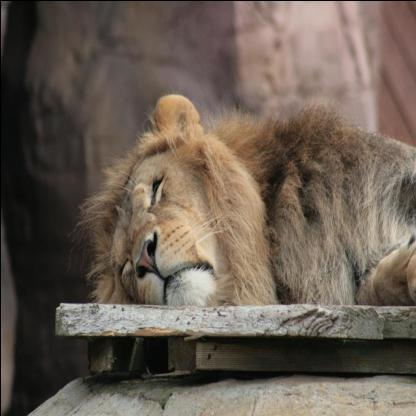lion: (83, 84, 269, 302)
